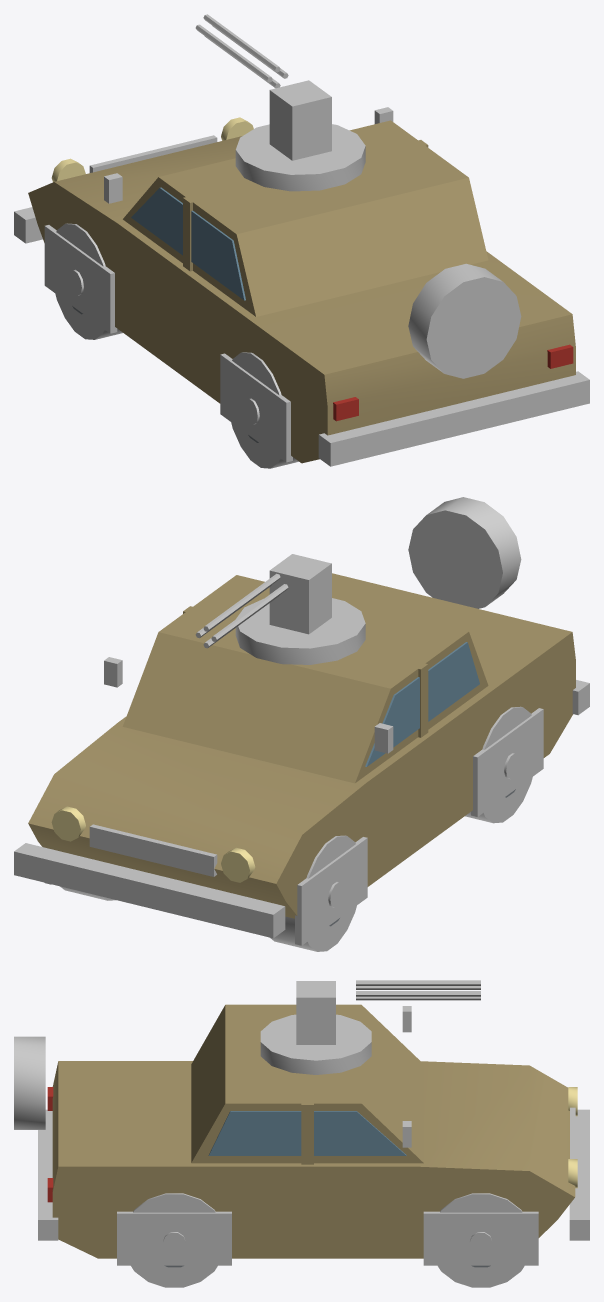
Rendered from humvee_minigun.obj.
3 renders of one model, top to bottom at view 1: azimuth 30°, elevation 25°; view 2: azimuth 150°, elevation 25°; view 3: azimuth 270°, elevation 25°, orthographic. The views are drawn at different scales.
Visible parts, largest first — view 1: model; view 2: model; view 3: model.
Part boxes in pixels (x1,y1,x2,y2): model: (14, 14, 589, 468); model: (14, 497, 589, 951); model: (14, 980, 589, 1287).
Size of the model in its own units: 2.52 by 2.46 by 5.07.
